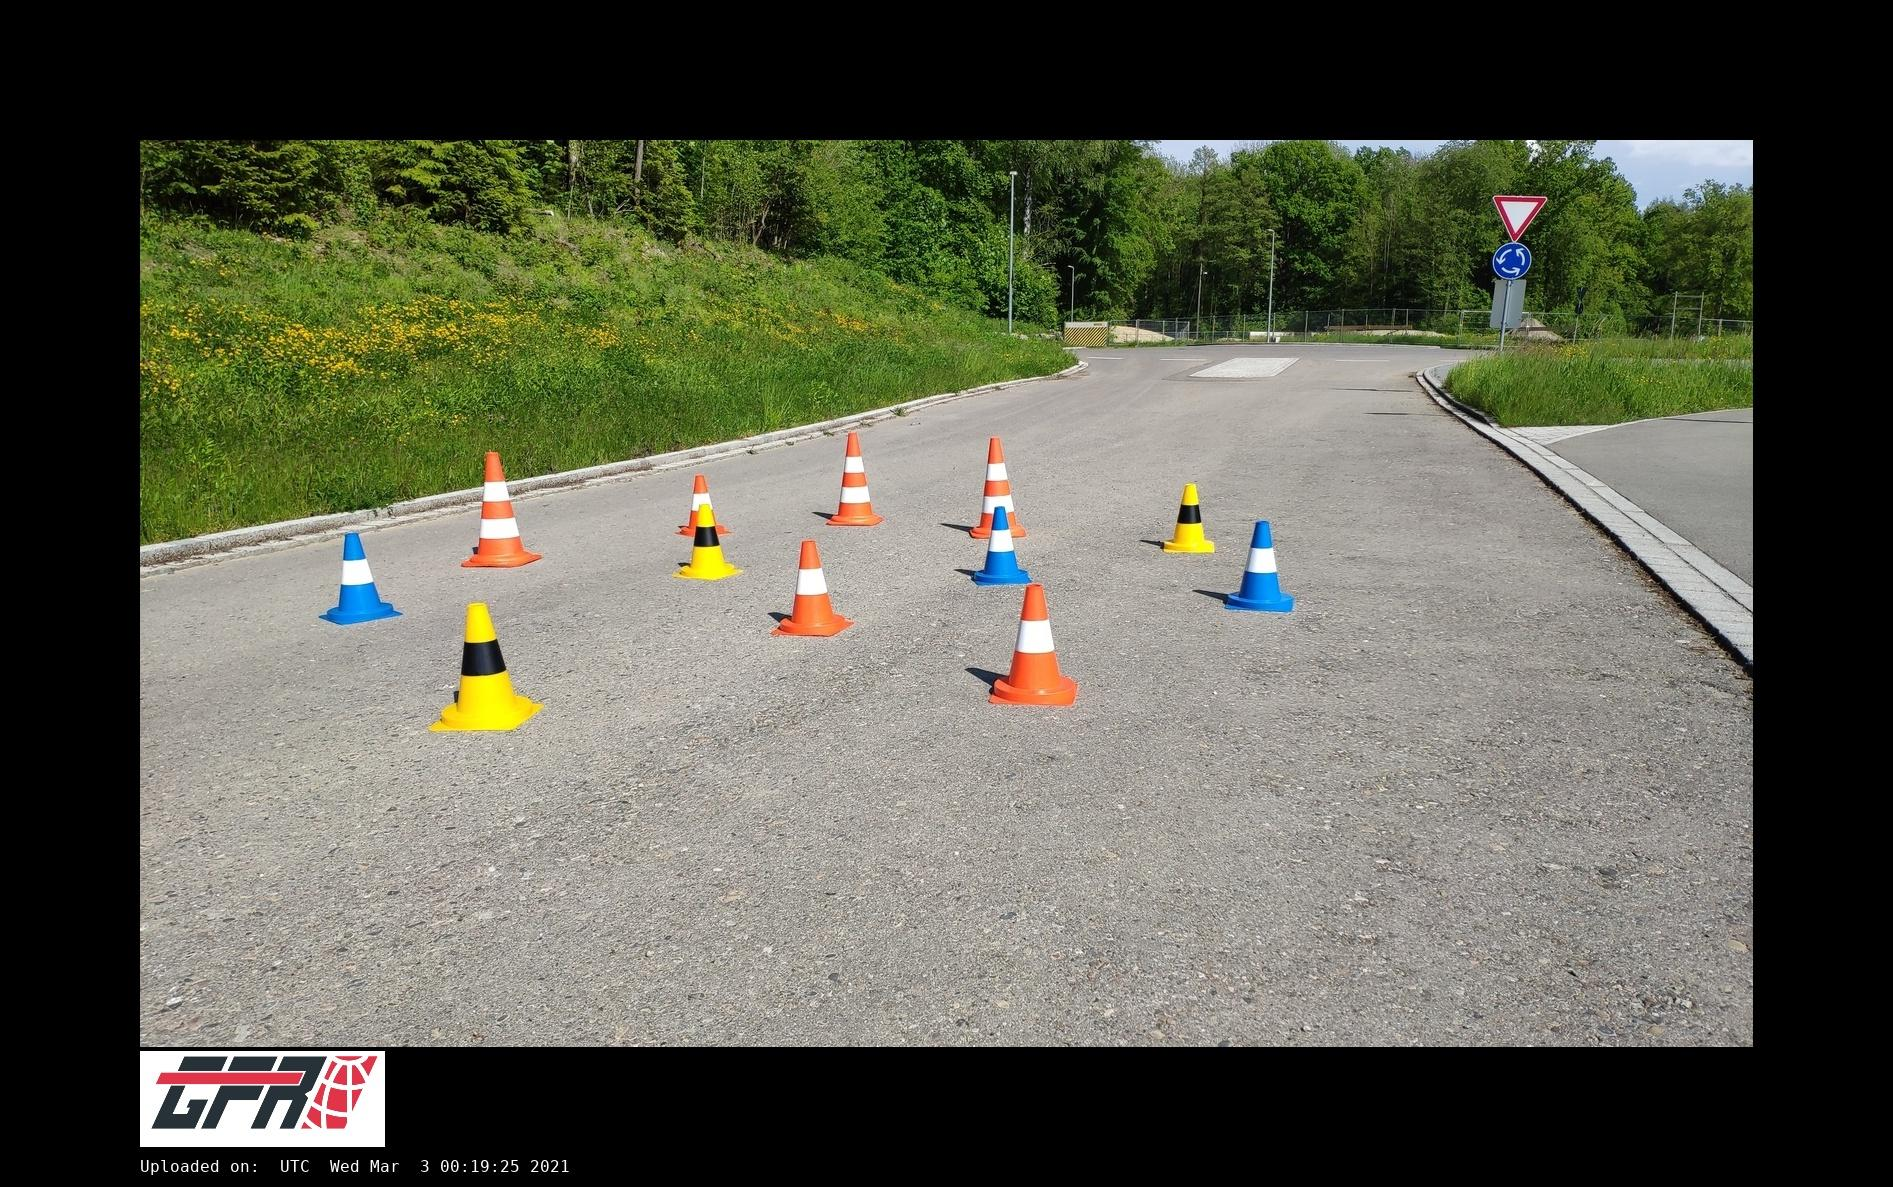blue_cone: (318, 533, 400, 626), (1225, 520, 1293, 613), (972, 507, 1032, 587)
large_orange_cone: (461, 453, 541, 568), (970, 438, 1026, 537), (826, 434, 883, 526)
orange_cone: (990, 583, 1077, 706), (771, 542, 856, 637), (675, 475, 728, 537)
yellow_cone: (431, 603, 543, 732), (672, 505, 744, 580), (1165, 484, 1214, 552)
